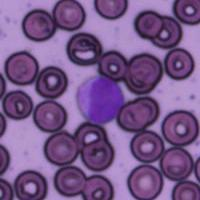L: (76, 74, 125, 125)
